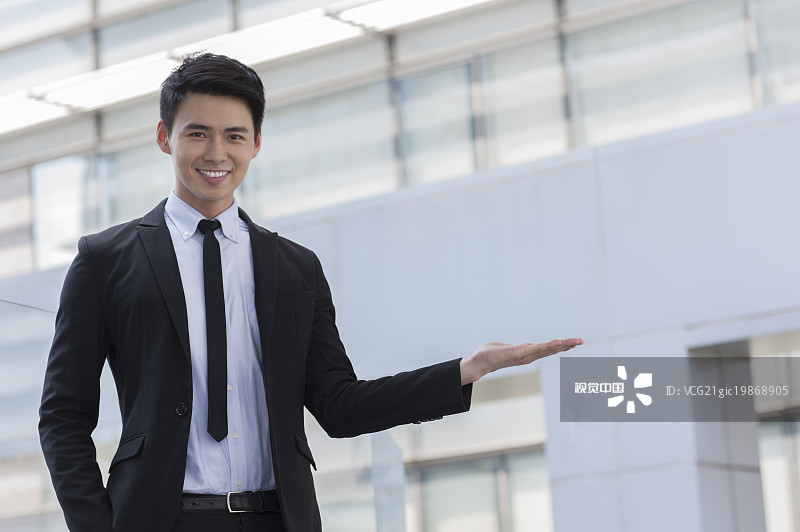no-phone: (458, 324, 592, 384)
